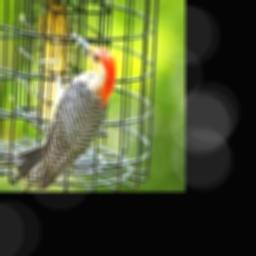Woodpecker: (15, 32, 116, 190)
